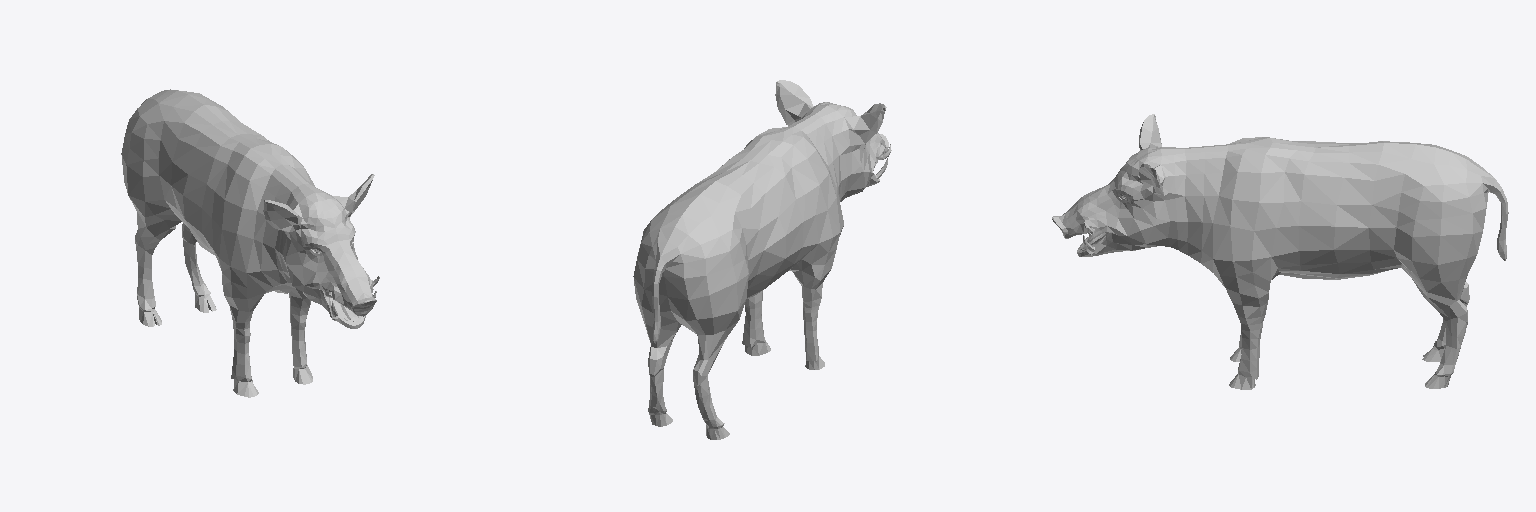
Rendered from pig.obj.
3 renders of one model, left to right at view 1: azimuth 30°, elevation 25°; view 2: azimuth 150°, elevation 25°; view 3: azimuth 270°, elevation 25°, orthographic.
Visible parts, largest first — view 1: WildBoar_mesh_Untitled; view 2: WildBoar_mesh_Untitled; view 3: WildBoar_mesh_Untitled.
Boxes of the visible parts, <box> form: WildBoar_mesh_Untitled: <box>121,89,379,397</box>; WildBoar_mesh_Untitled: <box>633,80,891,439</box>; WildBoar_mesh_Untitled: <box>1052,114,1508,389</box>.
Bounding box in the file's own units: 0.4743 × 0.9632 × 1.72.